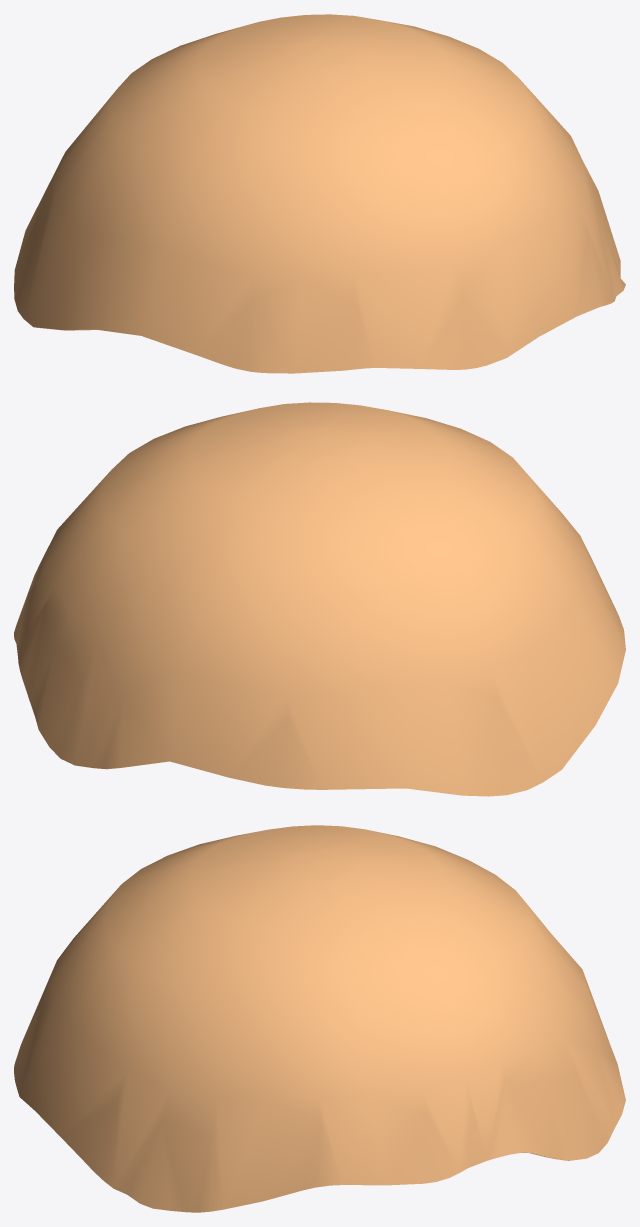
File: Ice Cream Melted Chocolate Beige.fbx
3 views of the same model, one above another, from view 1: azimuth 30°, elevation 25°; view 2: azimuth 150°, elevation 25°; view 3: azimuth 270°, elevation 25° (orthographic). The views are drawn at different scales.
Visible parts, largest first — view 1: Ice Cream Melted Chocolate Beige; view 2: Ice Cream Melted Chocolate Beige; view 3: Ice Cream Melted Chocolate Beige.
Boxes of the visible parts, x1,y1,x2,y2 form: Ice Cream Melted Chocolate Beige: [14, 14, 625, 373]; Ice Cream Melted Chocolate Beige: [14, 402, 625, 796]; Ice Cream Melted Chocolate Beige: [14, 825, 625, 1212].
Bounding box in the file's own units: 0.4696 × 0.2058 × 0.4726.
